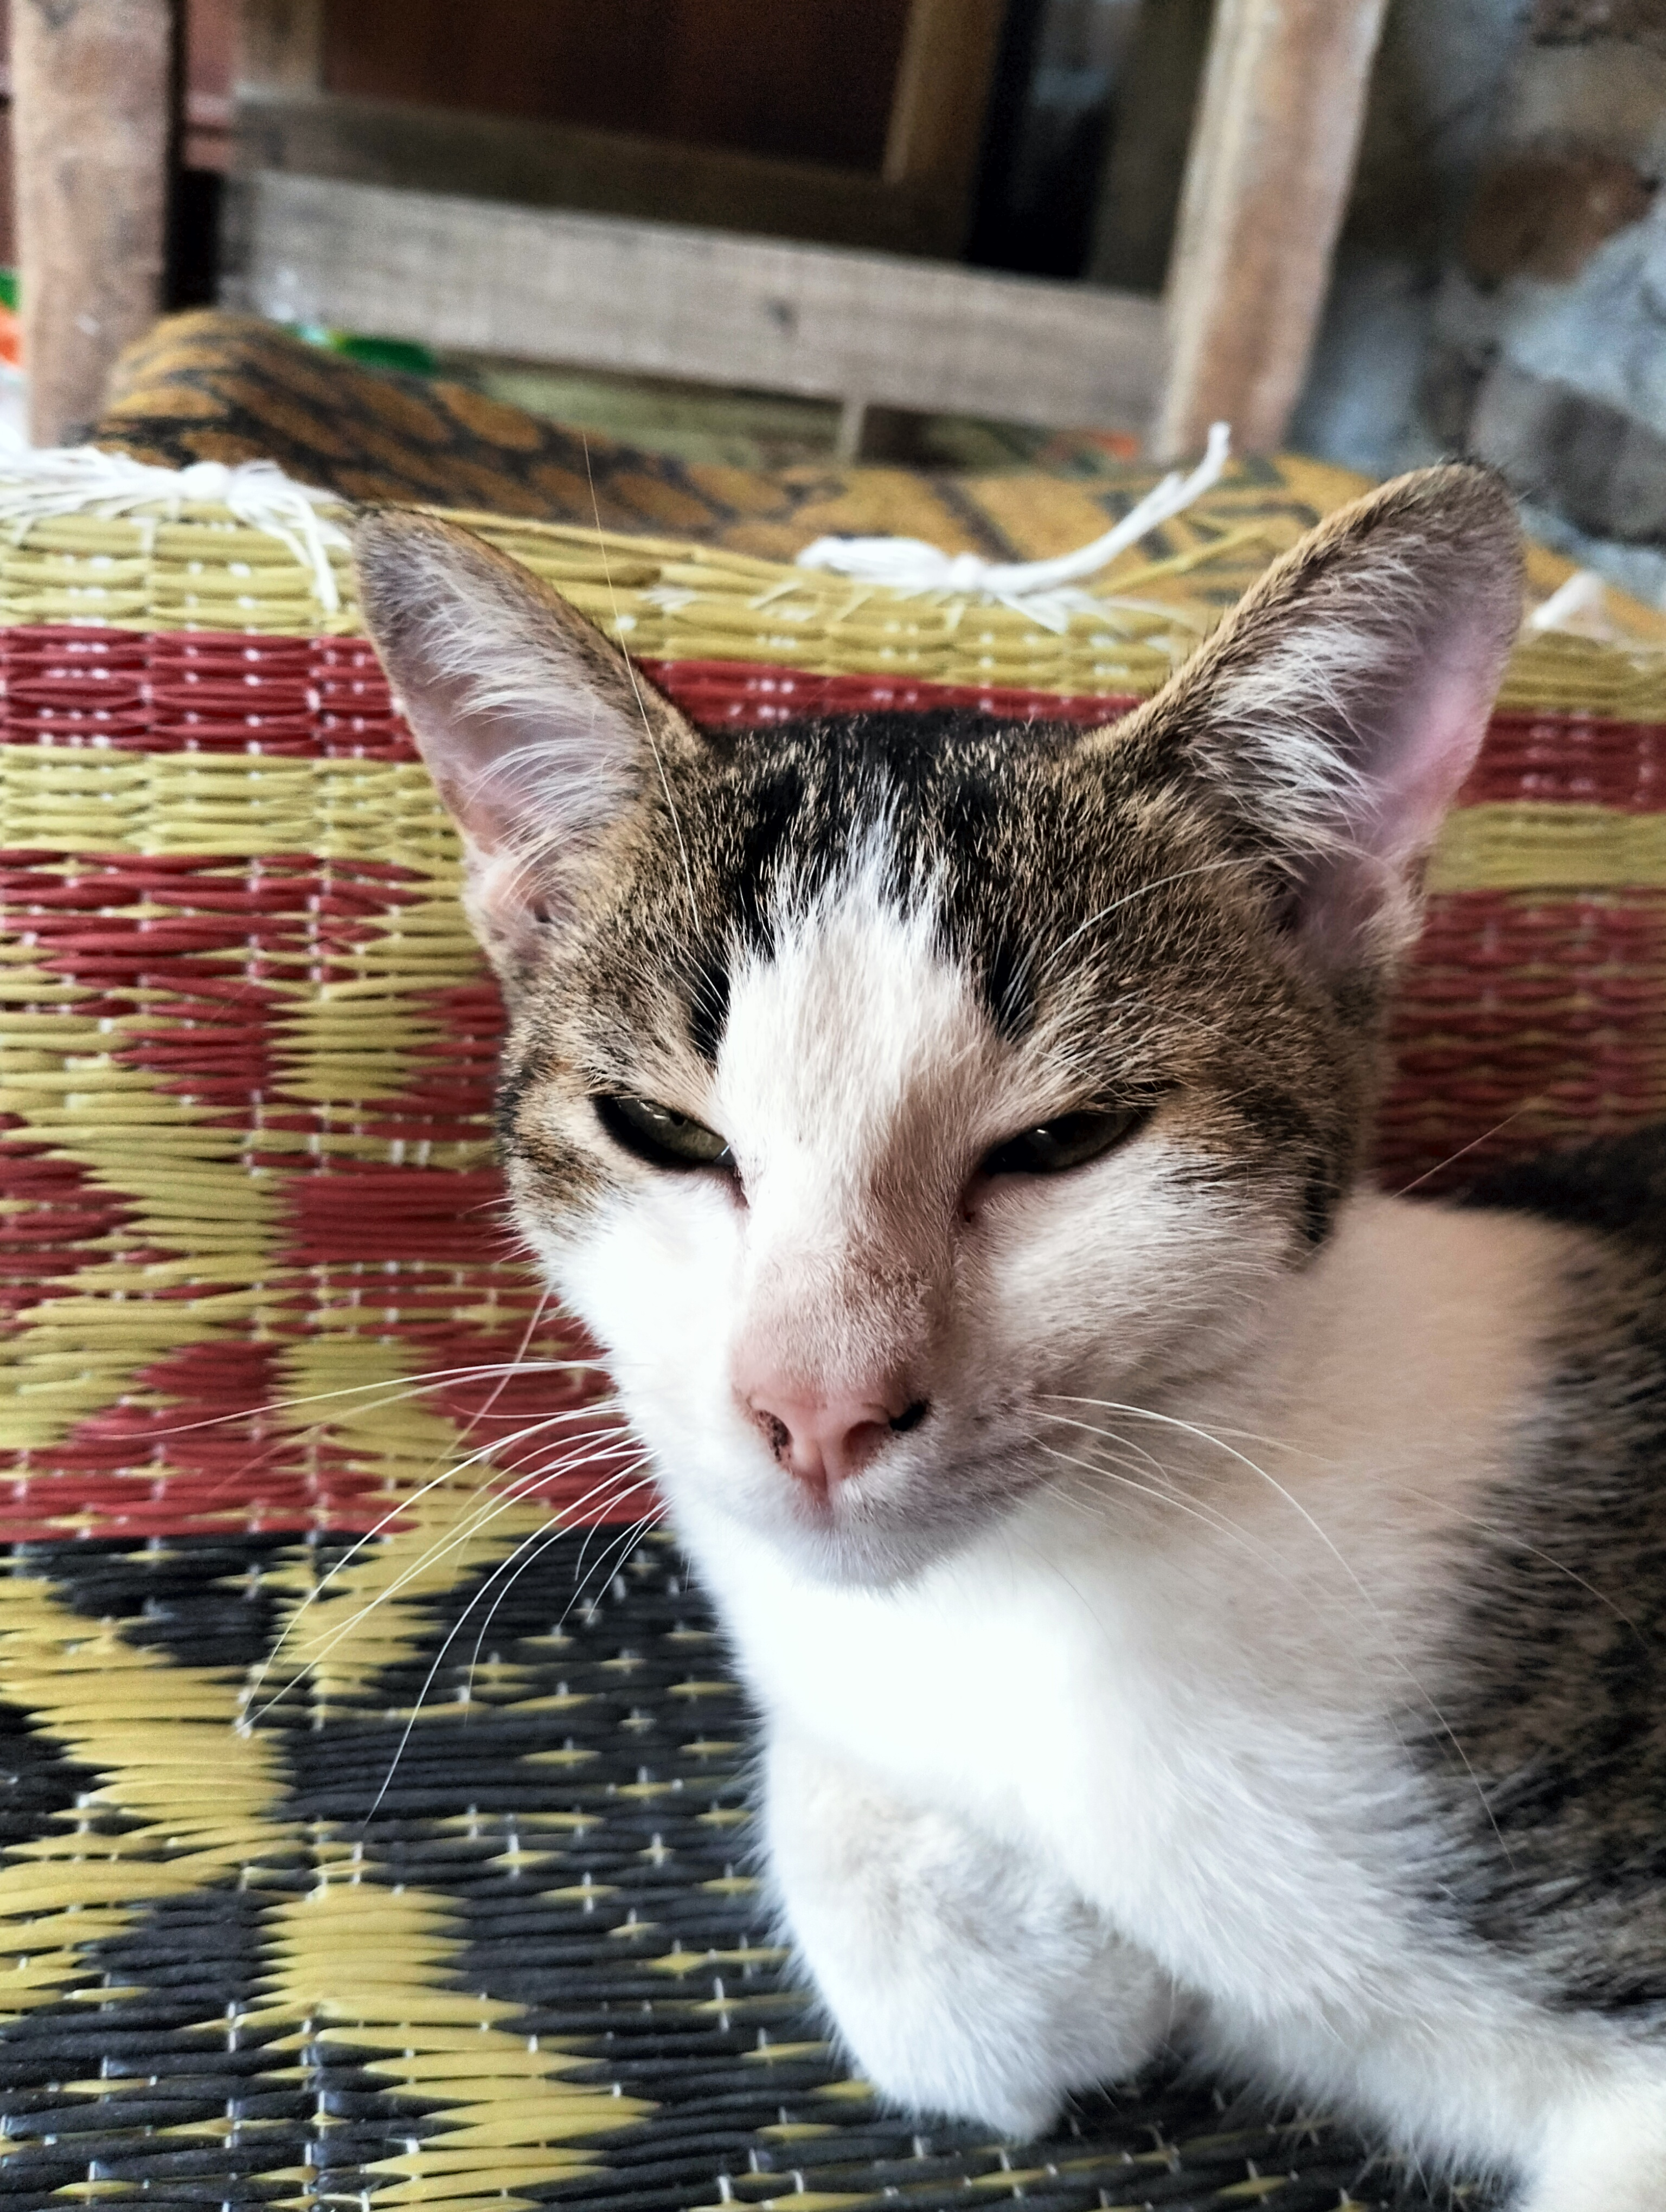miki: (299, 441, 1635, 1626)
